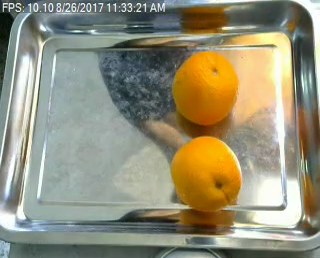Orange: (172, 137, 242, 212), (172, 51, 239, 124)
